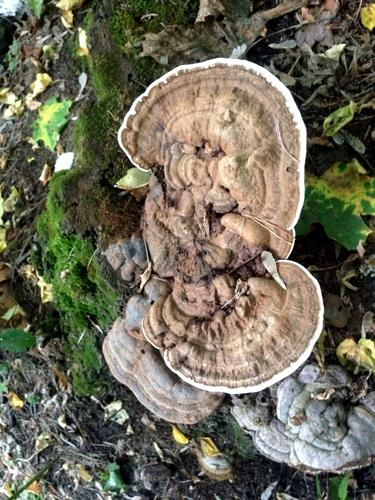Ganoderma - Fruit Body: (124, 57, 325, 416)
